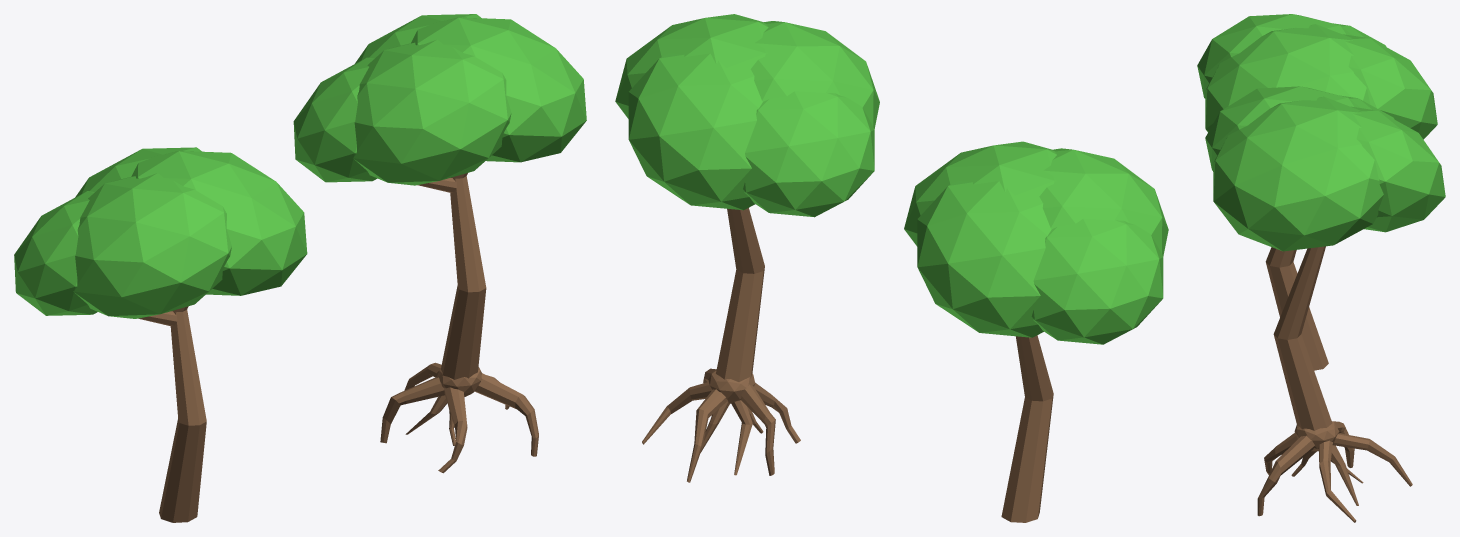
Rendered from arvores_em_low_poly..glb.
The picture shows the model from 3 angles, left to right: view 1: azimuth 30°, elevation 25°; view 2: azimuth 150°, elevation 25°; view 3: azimuth 270°, elevation 25°; orthographic projection. The views are drawn at different scales.
Visible parts, largest first — view 1: Arvore-2, Arvore-1; view 2: Arvore-2, Arvore-1; view 3: Arvore-2, Arvore-1.
Boxes of the visible parts, bbox=[...] form: Arvore-2: bbox=[293, 14, 586, 473]; Arvore-1: bbox=[14, 147, 307, 522]; Arvore-2: bbox=[615, 14, 879, 482]; Arvore-1: bbox=[904, 141, 1168, 522]; Arvore-2: bbox=[1205, 86, 1445, 522]; Arvore-1: bbox=[1197, 14, 1437, 370].
Size of the model in its own units: 7.08 by 5.28 by 3.03.
